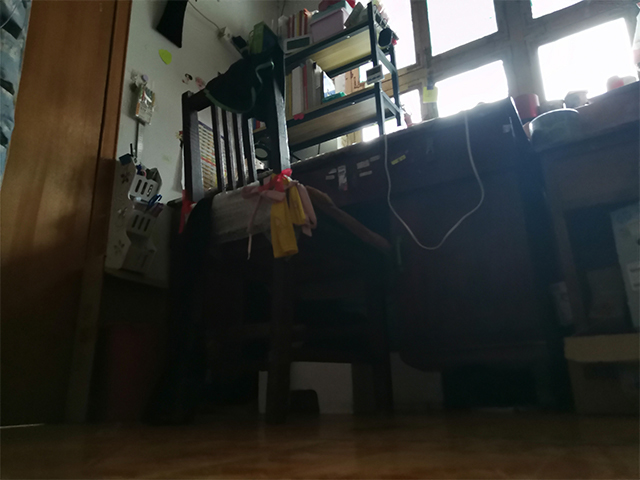cabinet: (165, 94, 561, 412)
stool: (152, 44, 394, 430)
trashcan: (99, 319, 164, 425)
